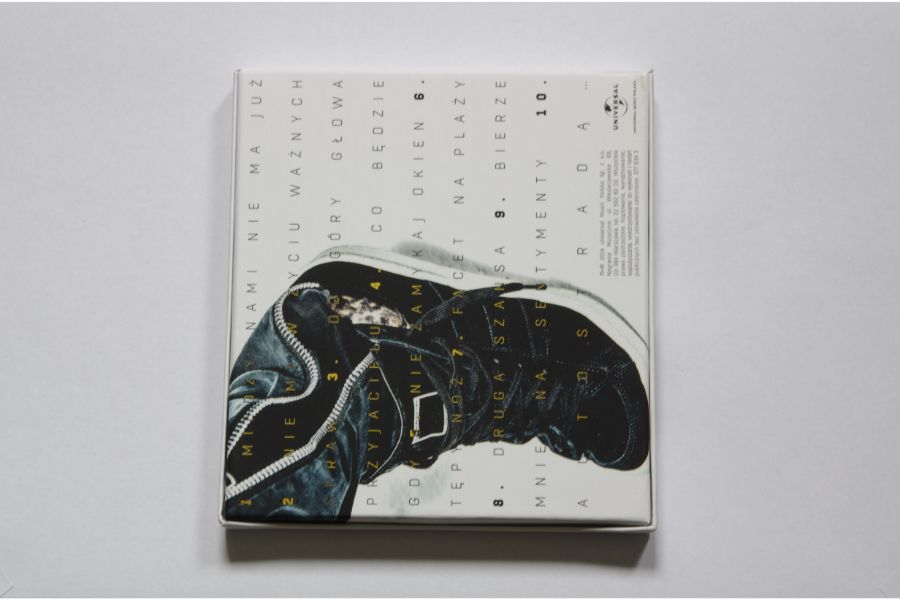album: (220, 61, 661, 532)
